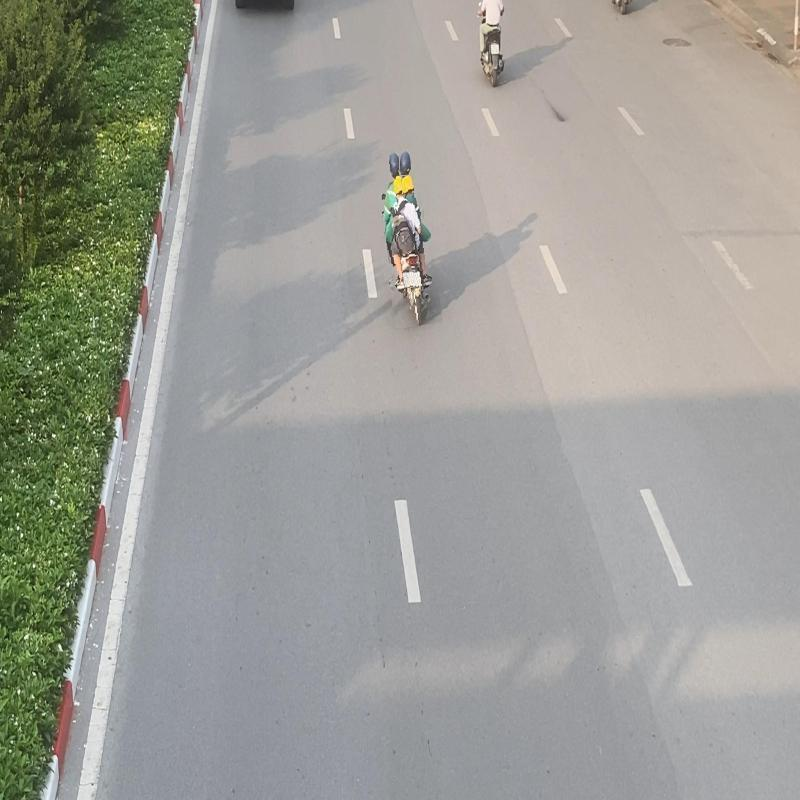helmet: (399, 150, 411, 175), (401, 175, 414, 194)
licenseplate: (402, 272, 416, 288)
motorcyclist: (377, 148, 437, 327)
